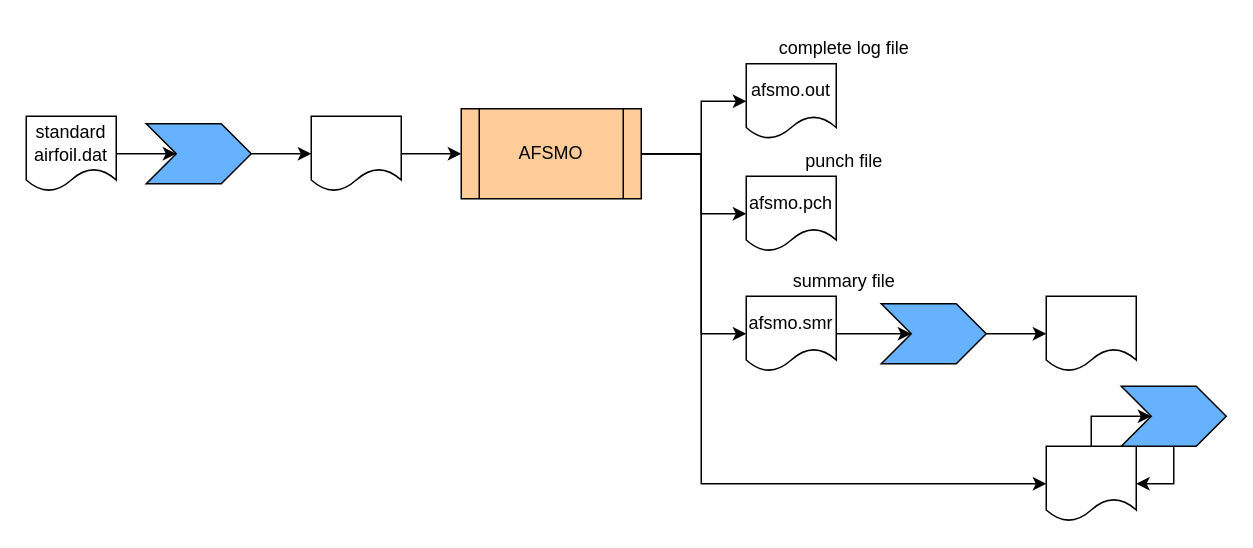
Image size: 1253x548. Some labels were removed from this diagram. The shapes that lost their labels are listed below. From the top down, each one's box as (x1, y1, x2, y2) in pixels, then its label:
(310, 115, 401, 191): AFSMO *.in file
(1045, 295, 1136, 371): *_sm.dat file
(1045, 445, 1136, 521): afsmo.dat
